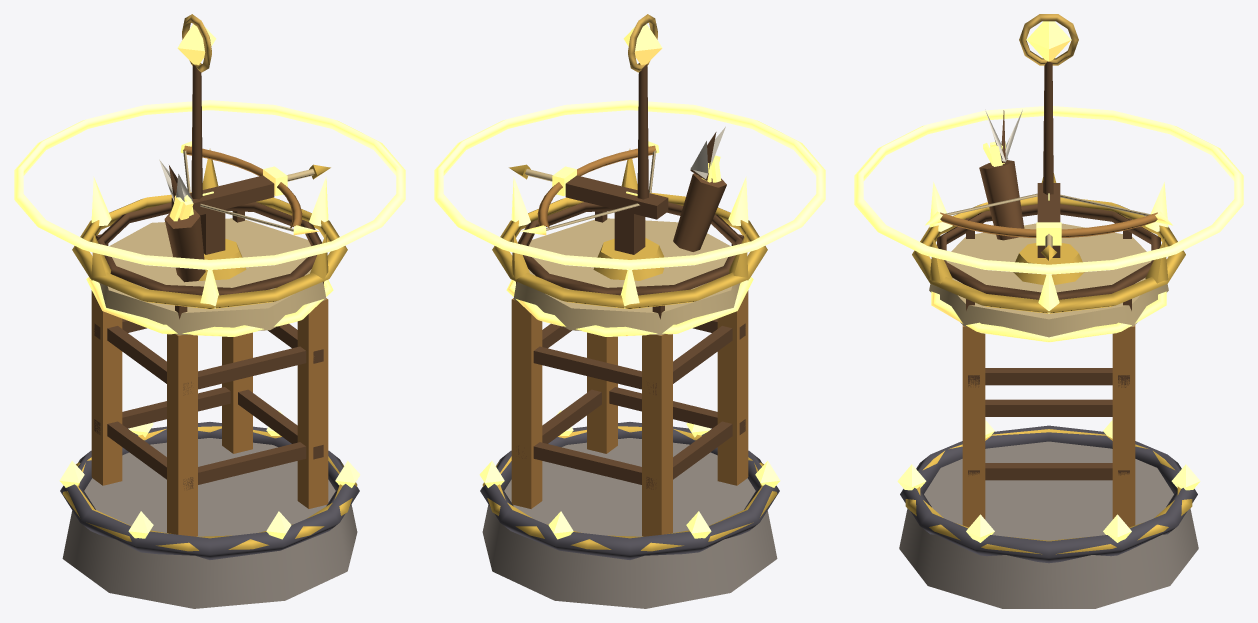
Rendered from tower_archer_eagleEye_ultimate.glb.
3 renders of one model, left to right at view 1: azimuth 30°, elevation 25°; view 2: azimuth 150°, elevation 25°; view 3: azimuth 270°, elevation 25°, orthographic.
Visible parts, largest first — view 1: base, deck, ult_halo, base_rim, post_wn, post_en, ult_crown_band, post_ws, rail, post_es, beam_x_1_n, beam_x_0_n (+16 smaller); view 2: base, deck, ult_halo, base_rim, post_ws, post_es, ult_crown_band, post_wn, rail, post_en, quiver, stock (+15 smaller); view 3: base, deck, ult_halo, base_rim, ult_crown_band, post_en, post_es, rail, beam_z_0_e, beam_z_0_w, beam_z_1_e, quiver (+9 smaller).
Part boxes in pixels (box(x1,y1,x2,y2)): base: box(62, 438, 357, 608); deck: box(99, 218, 326, 335); ult_halo: box(14, 100, 405, 269); base_rim: box(60, 422, 359, 559); post_wn: box(167, 334, 197, 536); post_en: box(297, 298, 328, 508); ult_crown_band: box(72, 192, 347, 309); post_ws: box(91, 290, 122, 485); rail: box(96, 202, 327, 295); post_es: box(222, 332, 252, 453); beam_x_1_n: box(198, 346, 306, 389); beam_x_0_n: box(198, 442, 306, 484); base: box(482, 438, 777, 608); deck: box(513, 218, 740, 335); ult_halo: box(434, 100, 825, 269); base_rim: box(480, 422, 779, 559); post_ws: box(642, 334, 672, 536); post_es: box(511, 298, 542, 508); ult_crown_band: box(492, 193, 767, 309); post_wn: box(717, 290, 748, 485); rail: box(512, 202, 743, 295); post_en: box(587, 332, 617, 453); quiver: box(673, 173, 726, 251); stock: box(565, 175, 668, 219); base: box(899, 441, 1198, 608); deck: box(929, 223, 1168, 337); ult_halo: box(854, 106, 1243, 274); base_rim: box(900, 425, 1197, 563); ult_crown_band: box(912, 196, 1185, 313); post_en: box(962, 325, 985, 527); post_es: box(1112, 325, 1135, 527); rail: box(937, 204, 1160, 299); beam_z_0_e: box(985, 463, 1112, 480); beam_z_0_w: box(985, 399, 1112, 416); beam_z_1_e: box(985, 368, 1112, 385); quiver: box(979, 160, 1024, 240).
Bounding box in the file's own units: 0.434 × 0.64 × 0.4274.
